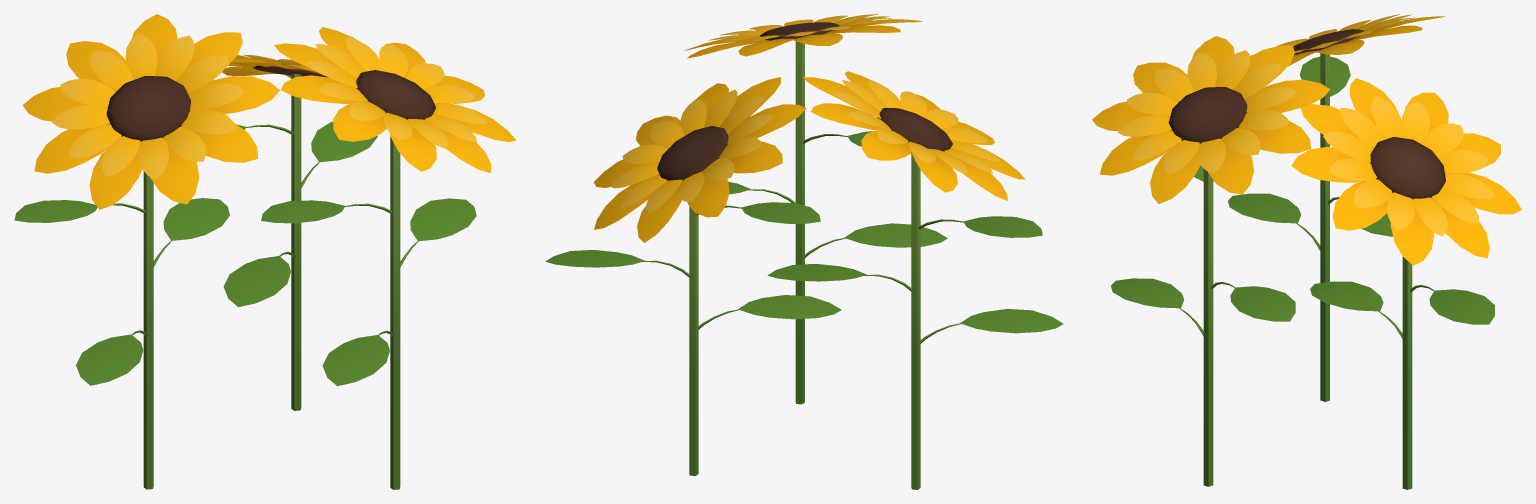
File: zonnebloemen.fbx
The picture shows the model from 3 angles, left to right: view 1: azimuth 30°, elevation 25°; view 2: azimuth 150°, elevation 25°; view 3: azimuth 270°, elevation 25°; orthographic projection. The views are drawn at different scales.
Visible parts, largest first — view 1: zonnebloemen; view 2: zonnebloemen; view 3: zonnebloemen.
Part boxes in pixels (x1,y1,x2,y2): zonnebloemen: [14, 14, 515, 489]; zonnebloemen: [545, 14, 1063, 489]; zonnebloemen: [1092, 14, 1521, 489].
Size of the model in its own units: 235 by 219 by 211.
